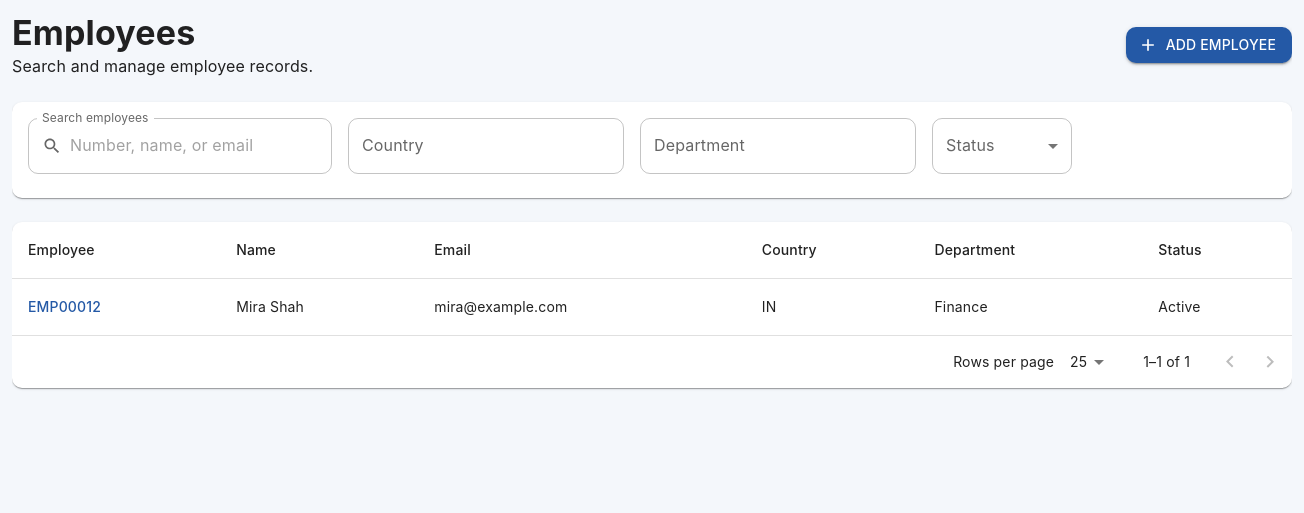
Test: employee list › renders results and applies search and filter query parameters
Expected: the link "EMP00012" is shown, [28,295,101,320]
Type "Mira" into the field labelled "Search employees".
click(201, 146); type("Mira")  # box [70,118,332,174]
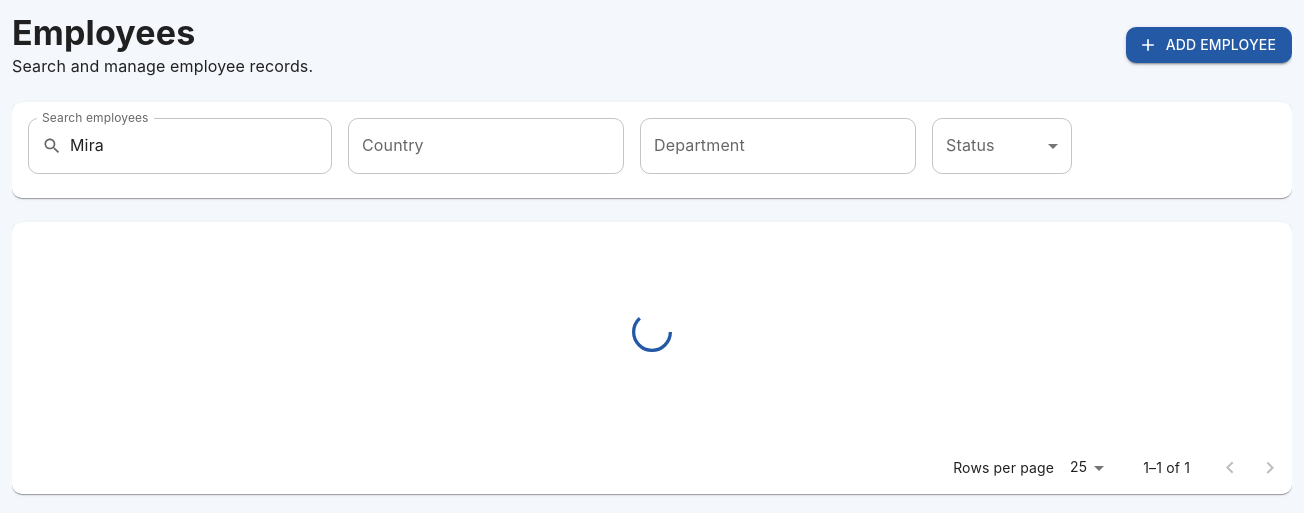
Type "IN" into the field labelled "Country".
click(486, 146); type("IN")  # box [348,118,624,174]
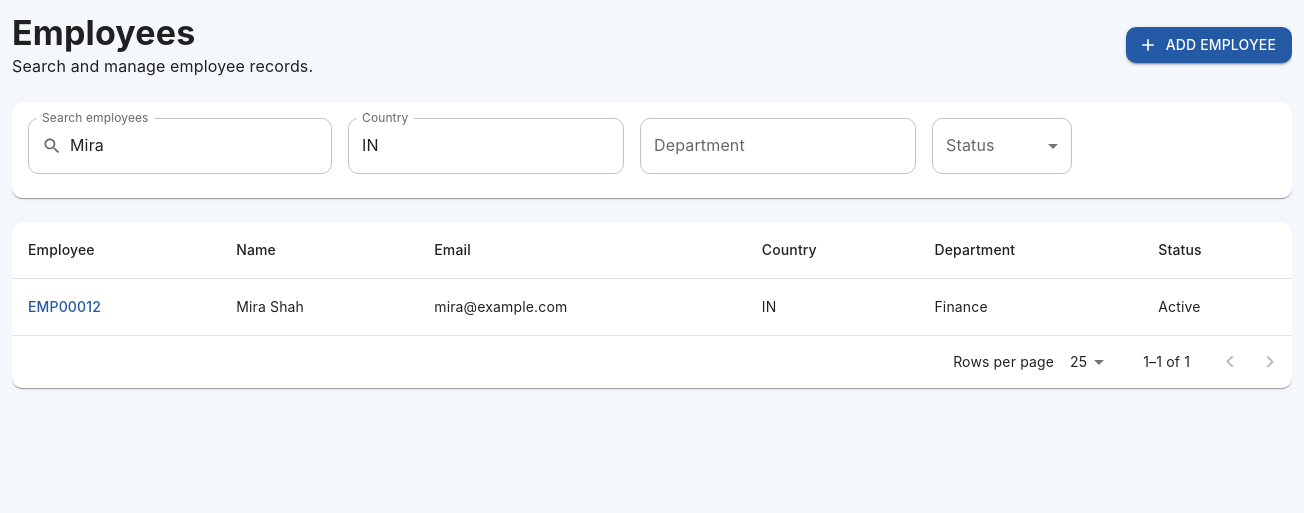
Now the text "Mira Shah" is shown, box [220,278,418,336]
